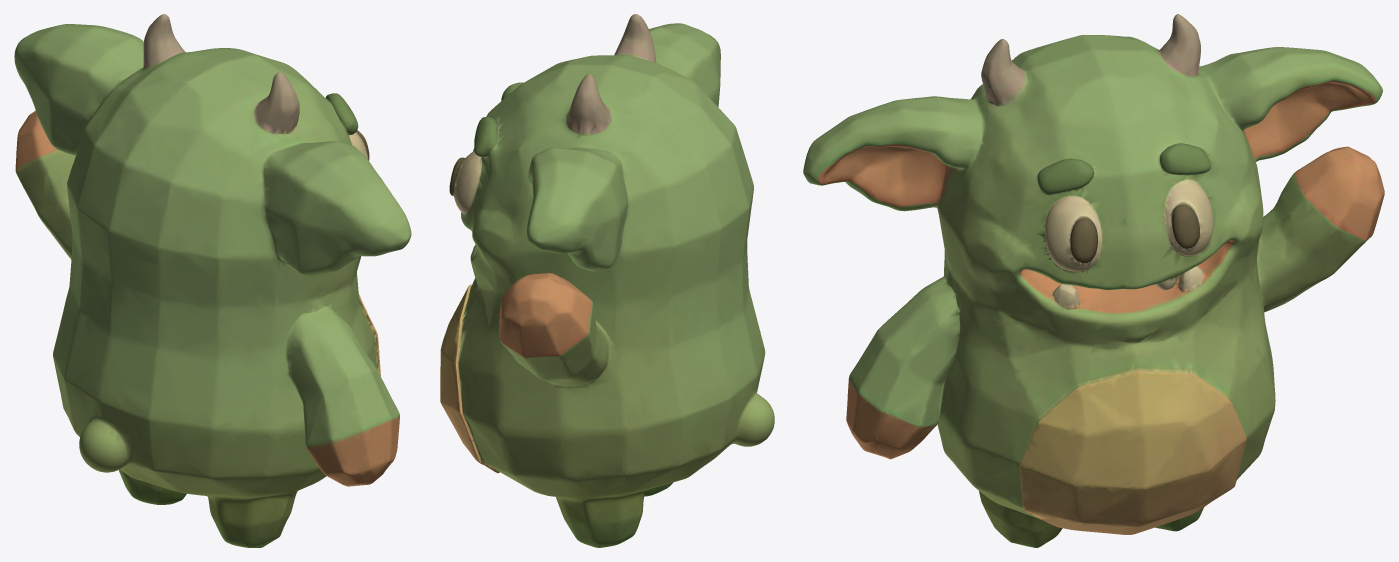
The model's file is goblin.glb.
3 renders of one model, left to right at view 1: azimuth 30°, elevation 25°; view 2: azimuth 150°, elevation 25°; view 3: azimuth 270°, elevation 25°, orthographic. The views are drawn at different scales.
Parts seen in each view (by area): view 1: tripo_node_4ef82399-4111-4b78-9c7a-339e1dd8128e; view 2: tripo_node_4ef82399-4111-4b78-9c7a-339e1dd8128e; view 3: tripo_node_4ef82399-4111-4b78-9c7a-339e1dd8128e.
Boxes of the visible parts, x1,y1,x2,y2 form: tripo_node_4ef82399-4111-4b78-9c7a-339e1dd8128e: [14, 14, 411, 547]; tripo_node_4ef82399-4111-4b78-9c7a-339e1dd8128e: [440, 14, 774, 547]; tripo_node_4ef82399-4111-4b78-9c7a-339e1dd8128e: [803, 14, 1384, 547].
Size of the model in its own units: 0.6183 by 0.9568 by 0.9771.
Materials: 1 (1 with a texture image).
